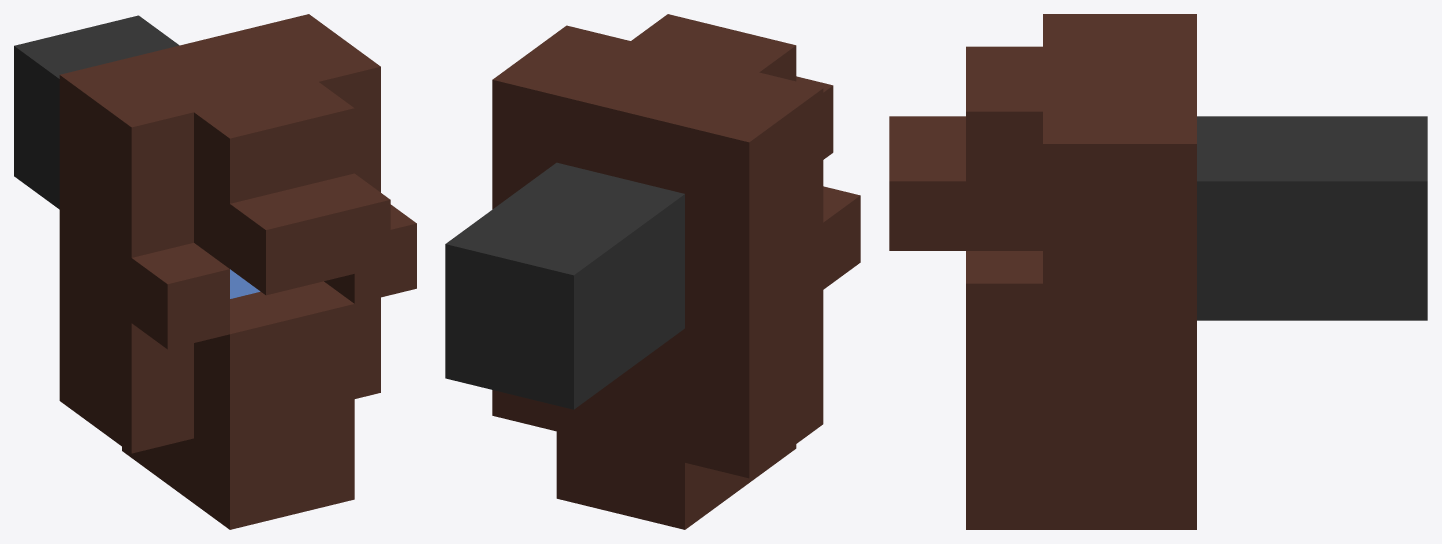
File: Head2.fbx
3 views of the same model, side by side, from view 1: azimuth 30°, elevation 25°; view 2: azimuth 150°, elevation 25°; view 3: azimuth 270°, elevation 25° (orthographic). The views are drawn at different scales.
Visible parts, largest first — view 1: Head2; view 2: Head2; view 3: Head2.
Part boxes in pixels (bbox=[...]): Head2: bbox=[14, 14, 416, 529]; Head2: bbox=[445, 14, 860, 529]; Head2: bbox=[889, 14, 1427, 529].
Bounding box in the file's own units: 20 × 30 × 35.
